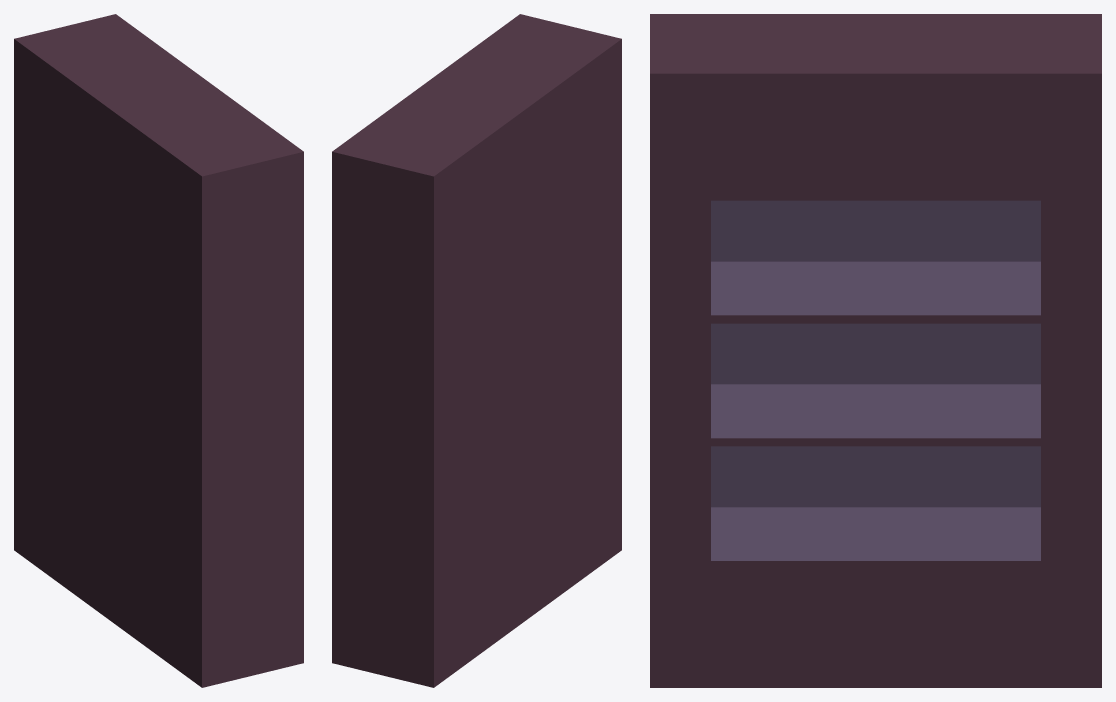
Rendered from Etagere.fbx.
3 renders of one model, left to right at view 1: azimuth 30°, elevation 25°; view 2: azimuth 150°, elevation 25°; view 3: azimuth 270°, elevation 25°, orthographic. The views are drawn at different scales.
Visible parts, largest first — view 1: Etagere; view 2: Etagere; view 3: Etagere.
Boxes of the visible parts, box(x1,y1,x2,y2) form: Etagere: box(14, 14, 303, 687); Etagere: box(332, 14, 621, 687); Etagere: box(650, 14, 1101, 687).
Bounding box in the file's own units: 50 × 240 × 160.
